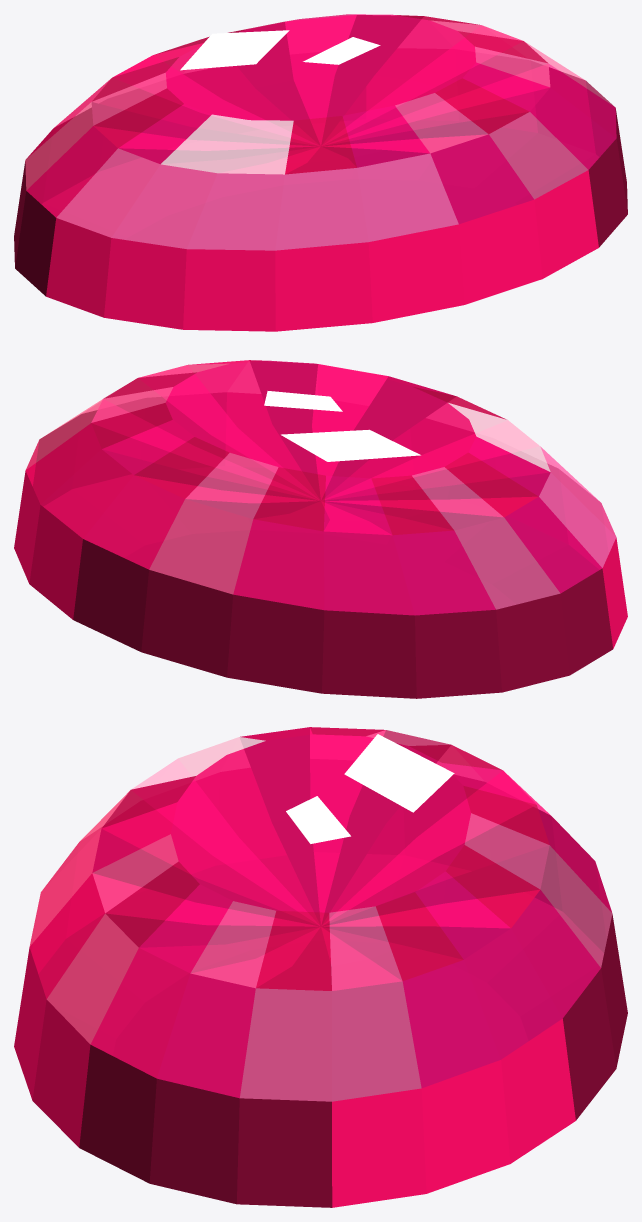
File: Ruby.glb
The picture shows the model from 3 angles, top to bottom: view 1: azimuth 30°, elevation 25°; view 2: azimuth 150°, elevation 25°; view 3: azimuth 270°, elevation 25°; orthographic projection. The views are drawn at different scales.
Parts seen in each view (by area): view 1: Ruby_Body_Core, Ruby_Transparent_Crown; view 2: Ruby_Body_Core, Ruby_Transparent_Crown; view 3: Ruby_Body_Core, Ruby_Transparent_Crown.
Boxes of the visible parts, bbox=[...] form: Ruby_Body_Core: bbox=[14, 15, 627, 331]; Ruby_Transparent_Crown: bbox=[25, 14, 616, 250]; Ruby_Body_Core: bbox=[14, 360, 627, 698]; Ruby_Transparent_Crown: bbox=[25, 360, 616, 615]; Ruby_Body_Core: bbox=[14, 727, 627, 1207]; Ruby_Transparent_Crown: bbox=[29, 727, 612, 1101].
Bounding box in the file's own units: 1.07 × 0.361 × 0.7822.
